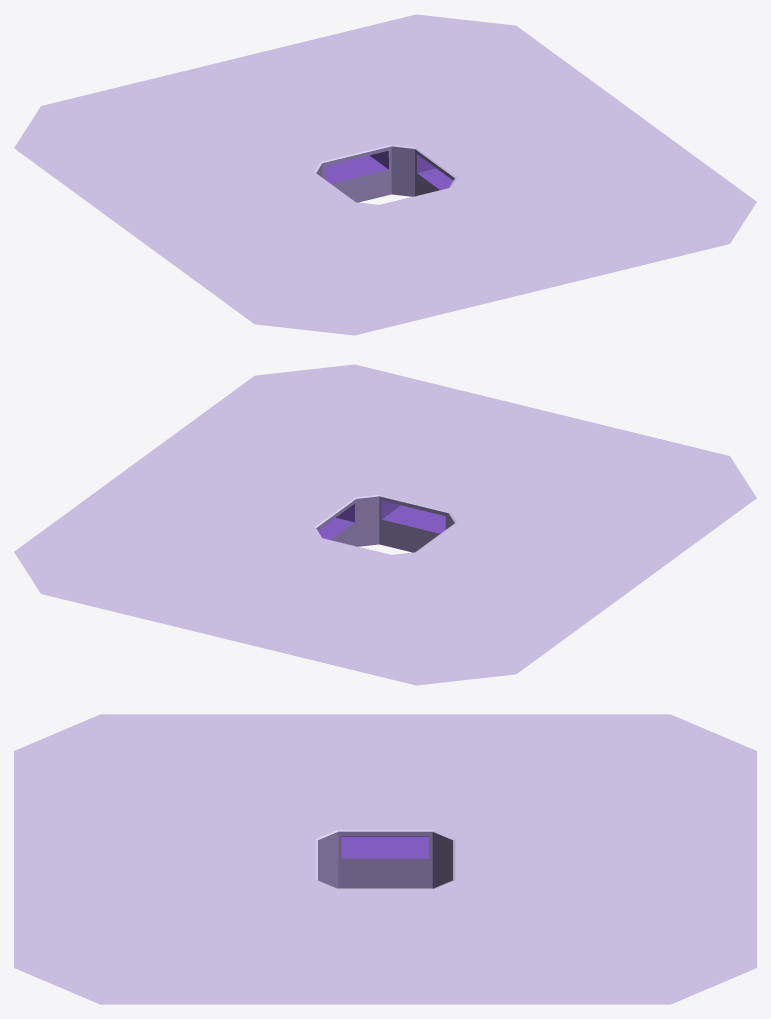
3 views of the same model, one above another, from view 1: azimuth 30°, elevation 25°; view 2: azimuth 150°, elevation 25°; view 3: azimuth 270°, elevation 25° (orthographic). The views are drawn at different scales.
Parts seen in each view (by area): view 1: BG_base; view 2: BG_base; view 3: BG_base.
Part boxes in pixels (x1,y1,x2,y2): BG_base: (14,14,756,335); BG_base: (14,364,756,685); BG_base: (14,714,756,1004).
Size of the model in its own units: 24708 by 2292 by 26723.
